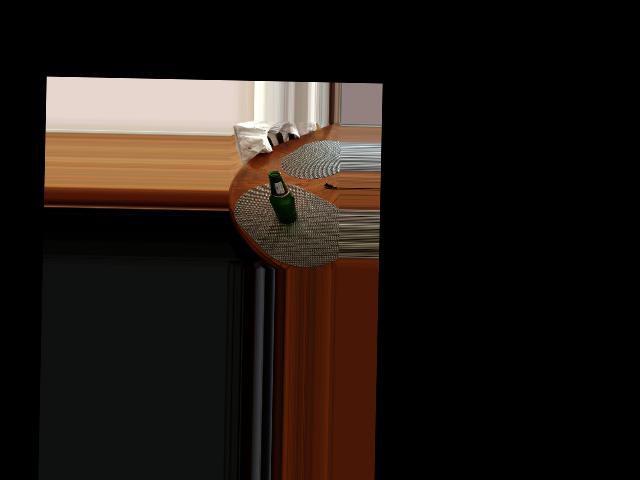beer: (269, 171, 298, 224)
